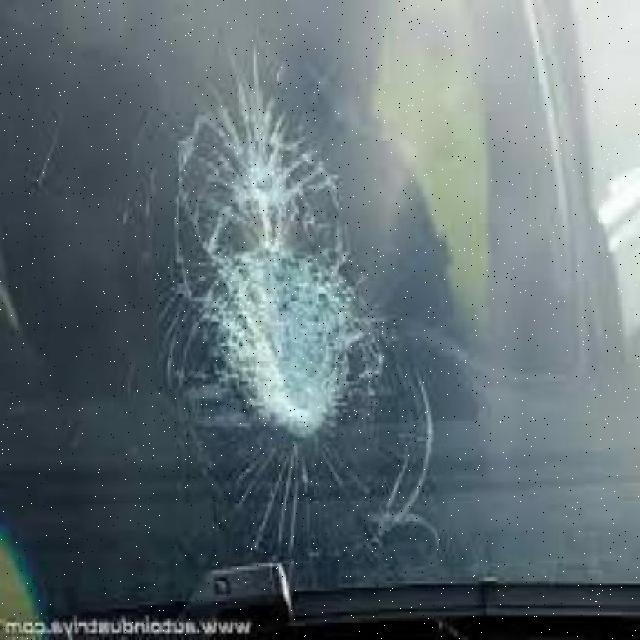damage: (165, 87, 396, 490)
